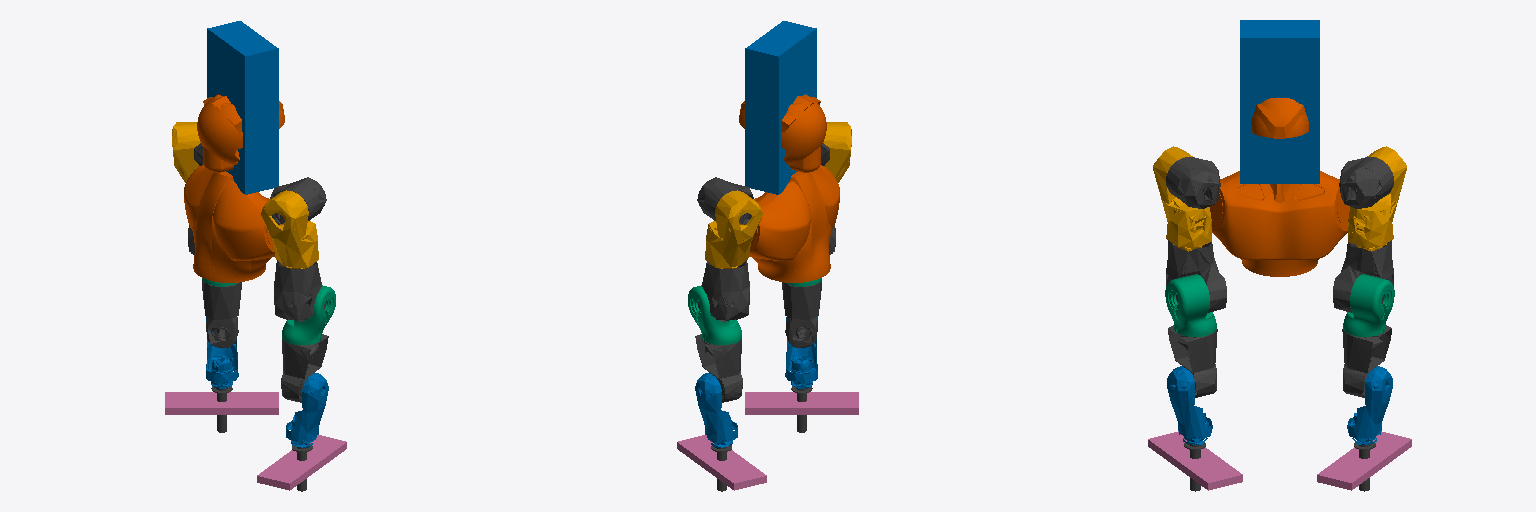
--- Render facts (derived) ---
Views: 3 orthographic renders of the robot side by side, from view 1: azimuth 30°, elevation 25°; view 2: azimuth 150°, elevation 25°; view 3: azimuth 270°, elevation 25°.
Robot: centauro — 23 links, 22 joints (14 revolute, 7 fixed, 1 floating); root link world; default pose: every joint at zero.
Links seen in each view (by area): view 1: torso_2, load, arm2_2, arm1_8, arm2_3, arm2_8, arm1_5, arm2_5, arm2_6, arm2_4, arm1_6, arm1_2 (+1 smaller); view 2: torso_2, load, arm1_2, arm2_8, arm1_3, arm1_8, arm2_5, arm1_5, arm1_6, arm1_4, arm2_6, arm2_2 (+1 smaller); view 3: torso_2, load, arm1_2, arm2_2, arm1_8, arm2_8, arm1_4, arm2_4, arm1_1, arm2_1, arm1_3, arm2_3 (+4 smaller).
Boxes of the visible links, box(x1,y1,x2,y2) form: torso_2: box(184, 94, 284, 282); load: box(207, 21, 278, 194); arm2_2: box(261, 190, 318, 268); arm1_8: box(165, 392, 278, 414); arm2_3: box(274, 260, 326, 321); arm2_8: box(257, 435, 346, 490); arm1_5: box(202, 280, 241, 347); arm2_5: box(281, 334, 328, 402); arm2_6: box(286, 373, 328, 447); arm2_4: box(282, 285, 335, 344); arm1_6: box(206, 317, 238, 388); arm1_2: box(172, 122, 200, 182); torso_2: box(739, 94, 839, 282); load: box(745, 21, 816, 194); arm1_2: box(705, 190, 762, 268); arm2_8: box(745, 392, 858, 414); arm1_3: box(697, 260, 749, 321); arm1_8: box(677, 435, 766, 490); arm2_5: box(782, 280, 821, 347); arm1_5: box(695, 334, 742, 402); arm1_6: box(695, 373, 737, 447); arm1_4: box(688, 285, 741, 344); arm2_6: box(785, 317, 817, 388); arm2_2: box(823, 122, 851, 182); torso_2: box(1210, 98, 1349, 276); load: box(1240, 20, 1319, 183); arm1_2: box(1348, 146, 1406, 251); arm2_2: box(1153, 146, 1211, 251); arm1_8: box(1317, 431, 1411, 490); arm2_8: box(1148, 431, 1242, 490); arm1_4: box(1343, 274, 1394, 336); arm2_4: box(1165, 274, 1216, 336); arm1_1: box(1339, 157, 1393, 208); arm2_1: box(1166, 157, 1220, 208); arm1_3: box(1333, 240, 1393, 312); arm2_3: box(1166, 240, 1226, 312).
Bounding box of the posed robot: 0.3478 × 0.6556 × 1.23 m (x, y, z).
Meshes: 8 distinct files referenced, 15 mesh visuals loaded (8 binary STL).

The robot description file, URDF, robot "centauro":
<?xml version="1.0" ?>
<!-- =================================================================================== -->
<!-- |    This document was autogenerated by xacro from centauro_floating_arm.urdf.xacro | -->
<!-- |    EDITING THIS FILE BY HAND IS NOT RECOMMENDED                                 | -->
<!-- =================================================================================== -->
<robot name="centauro" xmlns:xacro="http://www.ros.org/wiki/xacro">
  <!-- /constants -->
  <!-- Here all arguments from launch file are evaluated to the final xacro poropeties.
     Also all the parameter dependencies are resolved-->
  <!-- Here all arguments from launch file are evaluated to the final xacro poropeties.
     Also all the parameter dependencies are resolved-->
  <!--xacro:if value="${arm_sensors}">
  <xacro:force-torque_sensor joint="j_arm1_7" robot="centauro"/>
  <xacro:if value="${arms}">
    <xacro:force-torque_sensor joint="j_arm2_7" robot="centauro"/>
  </xacro:if>
</xacro:if-->
  <gazebo reference="j_arm1_7">
    <sensor name="left_arm_ft" type="force_torque">
      <force_torque>
        <frame>sensor</frame>
        <measure_direction>child_to_parent</measure_direction>
      </force_torque>
      <always_on>true</always_on>
      <visualize>true</visualize>
      <update_rate>1000</update_rate>
      <pose>0 0 -0.0565 0 0 0</pose>
    </sensor>
  </gazebo>
  <gazebo reference="j_arm2_7">
    <sensor name="right_arm_ft" type="force_torque">
      <force_torque>
        <frame>sensor</frame>
        <measure_direction>child_to_parent</measure_direction>
      </force_torque>
      <always_on>true</always_on>
      <visualize>true</visualize>
      <update_rate>1000</update_rate>
      <pose>0 0 -0.0565 0 0 0</pose>
    </sensor>
  </gazebo>
  <link name="left_arm_ft"/>
  <link name="right_arm_ft"/>
  <joint name="l_arm_ft_joint" type="fixed">
    <parent link="arm1_7"/>
    <child link="left_arm_ft"/>
    <origin rpy="0 0 0" xyz="0 0 -0.0565"/>
  </joint>
  <joint name="r_arm_ft_joint" type="fixed">
    <parent link="arm2_7"/>
    <child link="right_arm_ft"/>
    <origin rpy="0 0 0" xyz="0 0 -0.0565"/>
  </joint>
  <!-- ROS CONTROLLER -->
  <!--	<gazebo>
		<plugin name="gazebo_ros_control" filename="libgazebo_ros_control.so">
			<robotNamespace>/centauro</robotNamespace>
			<robotSimType>gazebo_ros_control/DefaultRobotHWSim</robotSimType>
		</plugin>

	</gazebo>-->
  <!-- /ROS CONTROLLER -->
  <!--  XBOT CONTROLLER -->
  <gazebo>
    <plugin filename="libGazeboXBotPlugin.so" name="gazebo_xbot_plugin">
      <path_to_config_file>configs/ADVR_shared/centauro/configs/config_centauro.yaml</path_to_config_file>
    </plugin>
  </gazebo>
  <!-- /XBOT CONTROLLER -->
  <gazebo reference="imu_link">
    <sensor name="imu_link" type="imu">
      <always_on>1</always_on>
      <update_rate>500</update_rate>
      <visualize>true</visualize>
      <topic>__default_topic__</topic>
      <imu>
        <!--
        <noise>
        <type>gaussian</type>
        <rate>
            <mean>0.0</mean>
            <stddev>2e-4</stddev>
            <bias_mean>0.0000075</bias_mean>
            <bias_stddev>0.0000008</bias_stddev>
        </rate>
        <accel>
            <mean>0.0</mean>
            <stddev>1.7e-2</stddev>
            <bias_mean>0.1</bias_mean>
            <bias_stddev>0.001</bias_stddev>
        </accel>
        </noise>
        -->
      </imu>
    </sensor>
  </gazebo>
  <!-- /CONTACT SENSORS -->
  <!-- FORCE-TORQUE SENSORS -->
  <!--<gazebo>
    <plugin name="ft_sensor" filename="libgazebo_ros_ft_sensor.so">
        <updateRate>100.0</updateRate>
        <topicName>ft_sensor_1</topicName>
        <jointName>foot_fixed_joint_1</jointName>
    </plugin>
</gazebo>-->
  <!-- The ft_sensor plugin -->
  <!--<gazebo>
    <plugin name="ft_sensor" filename="libgazebo_ros_ft_sensor.so">
        <updateRate>100.0</updateRate>
        <topicName>ft_sensor_2</topicName>
        <jointName>foot_fixed_joint_2</jointName>
    </plugin>
</gazebo>-->
  <!-- The ft_sensor plugin -->
  <!--<gazebo>
    <plugin name="ft_sensor" filename="libgazebo_ros_ft_sensor.so">
        <updateRate>100.0</updateRate>
        <topicName>ft_sensor_3</topicName>
        <jointName>foot_fixed_joint_3</jointName>
    </plugin>
</gazebo>-->
  <!-- The ft_sensor plugin -->
  <!--<gazebo>
    <plugin name="ft_sensor" filename="libgazebo_ros_ft_sensor.so">
        <updateRate>100.0</updateRate>
        <topicName>ft_sensor_4</topicName>
        <jointName>foot_fixed_joint_4</jointName>
    </plugin>
</gazebo>-->
  <!-- FORCE-TORQUE SENSORS -->
  <!-- /LEG SENSORS -->
  <!-- VISUALiZATION AND FRICTION -->
  <gazebo reference="base_link">
    <material>Gazebo/Red</material>
  </gazebo>
  <gazebo reference="load">
    <material>Gazebo/OrangeTransparent</material>
  </gazebo>
  <gazebo reference="pelvis">
    <material>Gazebo/OrangeTransparent</material>
    <mu1>0</mu1>
    <mu2>0</mu2>
  </gazebo>
  <gazebo reference="torso_1">
    <mu1>1</mu1>
    <mu2>1</mu2>
    <material>Gazebo/Grey</material>
  </gazebo>
  <gazebo reference="torso_2">
    <material>Gazebo/OrangeTransparent</material>
    <mu1>0</mu1>
    <mu2>0</mu2>
  </gazebo>
  <gazebo reference="hip1_1">
    <material>Gazebo/Lane_1</material>
    <mu1>0</mu1>
    <mu2>0</mu2>
  </gazebo>
  <gazebo reference="hip1_2">
    <material>Gazebo/Lane_1 </material>
    <mu1>0</mu1>
    <mu2>0</mu2>
  </gazebo>
  <gazebo reference="hip1_3">
    <material>Gazebo/Lane_1</material>
    <mu1>0</mu1>
    <mu2>0</mu2>
  </gazebo>
  <gazebo reference="hip1_4">
    <material>Gazebo/Lane_1</material>
    <mu1>0</mu1>
    <mu2>0</mu2>
  </gazebo>
  <gazebo reference="hip2_1">
    <material>Gazebo/OrangeTransparent </material>
    <mu1>0</mu1>
    <mu2>0</mu2>
  </gazebo>
  <gazebo reference="hip2_2">
    <material>Gazebo/OrangeTransparent</material>
    <mu1>0</mu1>
    <mu2>0</mu2>
  </gazebo>
  <gazebo reference="hip2_3">
    <material>Gazebo/OrangeTransparent </material>
    <mu1>0</mu1>
    <mu2>0</mu2>
  </gazebo>
  <gazebo reference="hip2_4">
    <material>Gazebo/OrangeTransparent </material>
    <mu1>0</mu1>
    <mu2>0</mu2>
  </gazebo>
  <gazebo reference="knee_1">
    <material>Gazebo/Lane_1 </material>
    <mu1>0</mu1>
    <mu2>0</mu2>
  </gazebo>
  <gazebo reference="knee_2">
    <material>Gazebo/Lane_1 </material>
    <mu1>0</mu1>
    <mu2>0</mu2>
  </gazebo>
  <gazebo reference="knee_3">
    <material>Gazebo/Lane_1 </material>
    <mu1>0</mu1>
    <mu2>0</mu2>
  </gazebo>
  <gazebo reference="knee_4">
    <material>Gazebo/Lane_1 </material>
    <mu1>0</mu1>
    <mu2>0</mu2>
  </gazebo>
  <gazebo reference="ankle1_1">
    <material>Gazebo/OrangeTransparent</material>
    <mu1>0</mu1>
    <mu2>0</mu2>
  </gazebo>
  <gazebo reference="ankle1_2">
    <material>Gazebo/OrangeTransparent  </material>
    <mu1>0</mu1>
    <mu2>0</mu2>
  </gazebo>
  <gazebo reference="ankle1_3">
    <material>Gazebo/OrangeTransparent </material>
    <mu1>0</mu1>
    <mu2>0</mu2>
  </gazebo>
  <gazebo reference="ankle1_4">
    <material>Gazebo/OrangeTransparent  </material>
    <mu1>0</mu1>
    <mu2>0</mu2>
  </gazebo>
  <gazebo reference="ankle2_1">
    <material> Gazebo/Lane_1 </material>
    <mu1>0</mu1>
    <mu2>0</mu2>
  </gazebo>
  <gazebo reference="ankle2_2">
    <material>Gazebo/Lane_1 </material>
    <mu1>0</mu1>
    <mu2>0</mu2>
  </gazebo>
  <gazebo reference="ankle2_3">
    <material>Gazebo/Lane_1</material>
    <mu1>0</mu1>
    <mu2>0</mu2>
  </gazebo>
  <gazebo reference="ankle2_4">
    <material>Gazebo/Lane_1</material>
    <mu1>0</mu1>
    <mu2>0</mu2>
  </gazebo>
  <gazebo reference="wheel_1">
    <material>Gazebo/Residential </material>
    <collision>
      <surface>
        <friction>
          <!--                                        <torsional>
                                                <coefficient> 0.5 </coefficient>
                                                <use_patch_radius>true</use_patch_radius>
                                                <patch_radius>0.2</patch_radius>
                                        </torsional>-->
          <ode>
            <mu>0.5</mu>
            <mu2>0.5</mu2>
          </ode>
          <bullet>
            <friction>0.5</friction>
            <friction2>0.5</friction2>
          </bullet>
        </friction>
        <contact>
          <ode>
            <!--                                               <soft_cfm>0.007</soft_cfm>
                                        <soft_erp>0.25</soft_erp>-->
            <kp>2100000</kp>
            <kd>1</kd>
            <!--                                                <max_vel>100</max_vel>-->
          </ode>
          <bullet>
            <soft_cfm>0.007</soft_cfm>
            <soft_erp>0.25</soft_erp>
            <kp>1000000</kp>
            <kd>5</kd>
            <split_impulse>0.01</split_impulse>
          </bullet>
        </contact>
      </surface>
    </collision>
  </gazebo>
  <gazebo reference="wheel_2">
    <material>Gazebo/Residential</material>
    <collision>
      <surface>
        <friction>
          <!--                                        <torsional>
                                                <coefficient> 0.5 </coefficient>
                                                <use_patch_radius>true</use_patch_radius>
                                                <patch_radius>0.2</patch_radius>
                                        </torsional>-->
          <ode>
            <mu>0.5</mu>
            <mu2>0.5</mu2>
          </ode>
          <bullet>
            <friction>0.5</friction>
            <friction2>0.5</friction2>
          </bullet>
        </friction>
        <contact>
          <ode>
            <!--                                               <soft_cfm>0.007</soft_cfm>
                                        <soft_erp>0.25</soft_erp>-->
            <kp>2100000</kp>
            <kd>1</kd>
            <!--                                                <max_vel>100</max_vel>-->
          </ode>
          <bullet>
            <soft_cfm>0.007</soft_cfm>
            <soft_erp>0.25</soft_erp>
            <kp>1000000</kp>
            <kd>5</kd>
            <split_impulse>0.01</split_impulse>
          </bullet>
        </contact>
      </surface>
    </collision>
  </gazebo>
  <gazebo reference="wheel_3">
    <material>Gazebo/Residential </material>
    <collision>
      <surface>
        <friction>
          <!--                                        <torsional>
                                                <coefficient> 0.5 </coefficient>
                                                <use_patch_radius>true</use_patch_radius>
                                                <patch_radius>0.2</patch_radius>
                                        </torsional>-->
          <ode>
            <mu>0.5</mu>
            <mu2>0.5</mu2>
          </ode>
          <bullet>
            <friction>0.5</friction>
            <friction2>0.5</friction2>
          </bullet>
        </friction>
        <contact>
          <ode>
            <!--                                               <soft_cfm>0.007</soft_cfm>
                                        <soft_erp>0.25</soft_erp>-->
            <kp>2100000</kp>
            <kd>1</kd>
            <!--                                                <max_vel>100</max_vel>-->
          </ode>
          <bullet>
            <soft_cfm>0.007</soft_cfm>
            <soft_erp>0.25</soft_erp>
            <kp>1000000</kp>
            <kd>5</kd>
            <split_impulse>0.01</split_impulse>
          </bullet>
        </contact>
      </surface>
    </collision>
  </gazebo>
  <gazebo reference="wheel_4">
    <material>Gazebo/Residential</material>
    <collision>
      <surface>
        <friction>
          <!--                                        <torsional>
                                                <coefficient> 0.5 </coefficient>
                                                <use_patch_radius>true</use_patch_radius>
                                                <patch_radius>0.2</patch_radius>
                                        </torsional>-->
          <ode>
            <mu>0.5</mu>
            <mu2>0.5</mu2>
          </ode>
          <bullet>
            <friction>0.5</friction>
            <friction2>0.5</friction2>
          </bullet>
        </friction>
        <contact>
          <ode>
            <!--                                               <soft_cfm>0.007</soft_cfm>
                                                <soft_erp>0.25</soft_erp>-->
            <kp>2100000</kp>
            <kd>1</kd>
            <!--                                                <max_vel>100</max_vel>-->
          </ode>
          <bullet>
            <soft_cfm>0.007</soft_cfm>
            <soft_erp>0.25</soft_erp>
            <kp>1000000</kp>
            <kd>5</kd>
            <split_impulse>0.01</split_impulse>
          </bullet>
        </contact>
      </surface>
    </collision>
  </gazebo>
  <gazebo reference="arm1_1">
    <material>Gazebo/Lane_1 </material>
    <mu1>0</mu1>
    <mu2>0</mu2>
  </gazebo>
  <gazebo reference="arm2_1">
    <material>Gazebo/Lane_1 </material>
    <mu1>0</mu1>
    <mu2>0</mu2>
  </gazebo>
  <gazebo reference="arm1_2">
    <material>Gazebo/OrangeTransparent </material>
    <mu1>0</mu1>
    <mu2>0</mu2>
  </gazebo>
  <gazebo reference="arm2_2">
    <material>Gazebo/OrangeTransparent</material>
    <mu1>0</mu1>
    <mu2>0</mu2>
  </gazebo>
  <gazebo reference="arm1_3">
    <material>Gazebo/Lane_1 </material>
    <mu1>0</mu1>
    <mu2>0</mu2>
  </gazebo>
  <gazebo reference="arm2_3">
    <material>Gazebo/Lane_1 </material>
    <mu1>0</mu1>
    <mu2>0</mu2>
  </gazebo>
  <gazebo reference="arm1_4">
    <material>Gazebo/OrangeTransparent </material>
    <mu1>0</mu1>
    <mu2>0</mu2>
  </gazebo>
  <gazebo reference="arm2_4">
    <material>Gazebo/OrangeTransparent </material>
    <mu1>0</mu1>
    <mu2>0</mu2>
  </gazebo>
  <gazebo reference="arm1_5">
    <material>Gazebo/Lane_1 </material>
    <mu1>0</mu1>
    <mu2>0</mu2>
  </gazebo>
  <gazebo reference="arm2_5">
    <material>Gazebo/Lane_1 </material>
    <mu1>0</mu1>
    <mu2>0</mu2>
  </gazebo>
  <gazebo reference="arm1_6">
    <material>Gazebo/OrangeTransparent </material>
    <mu1>0</mu1>
    <mu2>0</mu2>
  </gazebo>
  <gazebo reference="arm2_6">
    <material>Gazebo/OrangeTransparent </material>
    <mu1>0</mu1>
    <mu2>0</mu2>
  </gazebo>
  <gazebo reference="arm1_7">
    <material>Gazebo/Lane_1 </material>
    <mu1>0</mu1>
    <mu2>0</mu2>
  </gazebo>
  <gazebo reference="arm2_7">
    <material>Gazebo/Lane_1 </material>
    <mu1>0</mu1>
    <mu2>0</mu2>
  </gazebo>
  <gazebo reference="arm1_8">
    <material>Gazebo/OrangeTransparent </material>
    <kp>1000000.0</kp>
    <kd>100.0</kd>
    <mu1>1.0</mu1>
    <mu2>1.0</mu2>
    <fdir1>1 0 0</fdir1>
    <maxVel>1.0</maxVel>
    <minDepth>0.0</minDepth>
  </gazebo>
  <gazebo reference="arm2_8">
    <material>Gazebo/OrangeTransparent </material>
    <kp>1000000.0</kp>
    <kd>100.0</kd>
    <mu1>1.0</mu1>
    <mu2>1.0</mu2>
    <fdir1>1 0 0</fdir1>
    <maxVel>1.0</maxVel>
    <minDepth>0.0</minDepth>
  </gazebo>
  <!--     JOINTS -->
  <gazebo reference="torso_yaw">
    <dynamics damping="0.0" friction="0"/>
    <provideFeedback>1</provideFeedback>
    <physics>
      <ode>
        <implicit_spring_damper>1</implicit_spring_damper>
      </ode>
    </physics>
  </gazebo>
  <gazebo reference="j_arm2_1">
    <dynamics damping="0.0" friction="0"/>
    <provideFeedback>1</provideFeedback>
    <physics>
      <ode>
        <implicit_spring_damper>1</implicit_spring_damper>
      </ode>
    </physics>
  </gazebo>
  <gazebo reference="j_arm1_1">
    <dynamics damping="0.0" friction="0"/>
    <provideFeedback>1</provideFeedback>
    <physics>
      <ode>
        <implicit_spring_damper>1</implicit_spring_damper>
      </ode>
    </physics>
  </gazebo>
  <gazebo reference="j_arm2_1">
    <dynamics damping="0.0" friction="0"/>
    <provideFeedback>1</provideFeedback>
    <physics>
      <ode>
        <implicit_spring_damper>1</implicit_spring_damper>
      </ode>
    </physics>
  </gazebo>
  <gazebo reference="j_arm1_2">
    <dynamics damping="0.0" friction="0"/>
    <provideFeedback>1</provideFeedback>
    <physics>
      <ode>
        <implicit_spring_damper>1</implicit_spring_damper>
      </ode>
    </physics>
  </gazebo>
  <gazebo reference="j_arm2_2">
    <dynamics damping="0.0" friction="0"/>
    <provideFeedback>1</provideFeedback>
    <physics>
      <ode>
        <implicit_spring_damper>1</implicit_spring_damper>
      </ode>
    </physics>
  </gazebo>
  <gazebo reference="j_arm1_3">
    <dynamics damping="0.0" friction="0"/>
    <provideFeedback>1</provideFeedback>
    <physics>
      <ode>
        <implicit_spring_damper>1</implicit_spring_damper>
      </ode>
    </physics>
  </gazebo>
  <gazebo reference="j_arm2_3">
    <dynamics damping="0.0" friction="0"/>
    <provideFeedback>1</provideFeedback>
    <implicitSpringDamper>1</implicitSpringDamper>
  </gazebo>
  <gazebo reference="j_arm1_4">
    <dynamics damping="0.0" friction="0"/>
    <provideFeedback>1</provideFeedback>
    <physics>
      <ode>
        <implicit_spring_damper>1</implicit_spring_damper>
      </ode>
    </physics>
  </gazebo>
  <gazebo reference="j_arm2_4">
    <dynamics damping="0.0" friction="0"/>
    <provideFeedback>1</provideFeedback>
    <physics>
      <ode>
        <implicit_spring_damper>1</implicit_spring_damper>
      </ode>
    </physics>
  </gazebo>
  <gazebo reference="j_arm1_5">
    <dynamics damping="0.0" friction="0"/>
    <provideFeedback>1</provideFeedback>
    <physics>
      <ode>
        <implicit_spring_damper>1</implicit_spring_damper>
      </ode>
    </physics>
  </gazebo>
  <gazebo reference="j_arm2_5">
    <dynamics damping="0.0" friction="0"/>
    <provideFeedback>1</provideFeedback>
    <physics>
      <ode>
        <implicit_spring_damper>1</implicit_spring_damper>
      </ode>
    </physics>
  </gazebo>
  <gazebo reference="j_arm1_6">
    <dynamics damping="0.0" friction="0"/>
    <provideFeedback>1</provideFeedback>
    <physics>
      <ode>
        <implicit_spring_damper>1</implicit_spring_damper>
      </ode>
    </physics>
  </gazebo>
  <gazebo reference="j_arm2_6">
    <dynamics damping="0.0" friction="0"/>
    <provideFeedback>1</provideFeedback>
    <physics>
      <ode>
        <implicit_spring_damper>1</implicit_spring_damper>
      </ode>
    </physics>
  </gazebo>
  <gazebo reference="j_arm1_7">
    <dynamics damping="0.0" friction="0"/>
    <provideFeedback>1</provideFeedback>
    <physics>
      <ode>
        <implicit_spring_damper>1</implicit_spring_damper>
      </ode>
    </physics>
  </gazebo>
  <gazebo reference="j_arm2_7">
    <dynamics damping="0.0" friction="0"/>
    <provideFeedback>1</provideFeedback>
    <physics>
      <ode>
        <implicit_spring_damper>1</implicit_spring_damper>
      </ode>
    </physics>
  </gazebo>
  <gazebo reference="hip_yaw_1">
    <dynamics damping="0.0" friction="0"/>
    <provideFeedback>1</provideFeedback>
    <physics>
      <ode>
        <implicit_spring_damper>1</implicit_spring_damper>
      </ode>
    </physics>
  </gazebo>
  <gazebo reference="hip_yaw_2">
    <dynamics damping="0.0" friction="0"/>
    <provideFeedback>1</provideFeedback>
    <physics>
      <ode>
        <implicit_spring_damper>1</implicit_spring_damper>
      </ode>
    </physics>
  </gazebo>
  <gazebo reference="hip_yaw_3">
    <dynamics damping="0.0" friction="0"/>
    <provideFeedback>1</provideFeedback>
    <physics>
      <ode>
        <implicit_spring_damper>1</implicit_spring_damper>
      </ode>
    </physics>
  </gazebo>
  <gazebo reference="hip_yaw_4">
    <dynamics damping="0.0" friction="0"/>
    <provideFeedback>1</provideFeedback>
    <physics>
      <ode>
        <implicit_spring_damper>1</implicit_spring_damper>
      </ode>
    </physics>
  </gazebo>
  <gazebo reference="hip_pitch_1">
    <dynamics damping="0.0" friction="0"/>
    <provideFeedback>1</provideFeedback>
    <physics>
      <ode>
        <implicit_spring_damper>1</implicit_spring_damper>
      </ode>
    </physics>
  </gazebo>
  <gazebo reference="hip_pitch_2">
    <dynamics damping="0.0" friction="0"/>
    <provideFeedback>1</provideFeedback>
    <physics>
      <ode>
        <implicit_spring_damper>1</implicit_spring_damper>
      </ode>
    </physics>
  </gazebo>
  <gazebo reference="hip_pitch_3">
    <dynamics damping="0.0" friction="0"/>
    <provideFeedback>1</provideFeedback>
    <physics>
      <ode>
        <implicit_spring_damper>1</implicit_spring_damper>
      </ode>
    </physics>
  </gazebo>
  <gazebo reference="hip_pitch_4">
    <dynamics damping="0.0" friction="0"/>
    <provideFeedback>1</provideFeedback>
    <physics>
      <ode>
        <implicit_spring_damper>1</implicit_spring_damper>
      </ode>
    </physics>
  </gazebo>
  <gazebo reference="knee_pitch_1">
    <dynamics damping="0.0" friction="0"/>
    <provideFeedback>1</provideFeedback>
    <physics>
      <ode>
        <implicit_spring_damper>1</implicit_spring_damper>
      </ode>
    </physics>
  </gazebo>
  <gazebo reference="knee_pitch_2">
    <dynamics damping="0.0" friction="0"/>
    <provideFeedback>1</provideFeedback>
    <physics>
      <ode>
        <implicit_spring_damper>1</implicit_spring_damper>
      </ode>
    </physics>
  </gazebo>
  <gazebo reference="knee_pitch_3">
    <dynamics damping="0.0" friction="0"/>
    <provideFeedback>1</provideFeedback>
    <physics>
      <ode>
        <implicit_spring_damper>1</implicit_spring_damper>
      </ode>
    </physics>
  </gazebo>
  <gazebo reference="knee_pitch_4">
    <dynamics damping="0.0" friction="0"/>
    <provideFeedback>1</provideFeedback>
    <physics>
      <ode>
        <implicit_spring_damper>1</implicit_spring_damper>
      </ode>
    </physics>
  </gazebo>
  <gazebo reference="wheel_hip_1">
    <material>Gazebo/Black</material>
  </gazebo>
  <gazebo reference="wheel_hip_2">
    <material>Gazebo/Black</material>
  </gazebo>
  <gazebo reference="wheel_hip_3">
    <material>Gazebo/Black</material>
  </gazebo>
  <gazebo reference="wheel_hip_4">
    <material>Gazebo/Black</material>
  </gazebo>
  <gazebo reference="wheel_hip_reference_1">
    <material>Gazebo/Blue</material>
  </gazebo>
  <gazebo reference="wheel_hip_reference_2">
    <material>Gazebo/Blue</material>
  </gazebo>
  <gazebo reference="wheel_hip_reference_3">
    <material>Gazebo/Blue</material>
  </gazebo>
  <gazebo reference="wheel_hip_reference_4">
    <material>Gazebo/Blue</material>
  </gazebo>
  <gazebo reference="wheel_knee_1">
    <material>Gazebo/Black</material>
  </gazebo>
  <gazebo reference="wheel_knee_2">
    <material>Gazebo/Black</material>
  </gazebo>
  <gazebo reference="wheel_knee_3">
    <material>Gazebo/Black</material>
  </gazebo>
  <gazebo reference="wheel_knee_4">
    <material>Gazebo/Black</material>
  </gazebo>
  <gazebo reference="wheel_knee_reference_1">
    <material>Gazebo/Blue</material>
  </gazebo>
  <gazebo reference="wheel_knee_reference_2">
    <material>Gazebo/Blue</material>
  </gazebo>
  <gazebo reference="wheel_knee_reference_3">
    <material>Gazebo/Blue</material>
  </gazebo>
  <gazebo reference="wheel_knee_reference_4">
    <material>Gazebo/Blue</material>
  </gazebo>
  <!-- /VISUALiZATION AND FRICTION -->
  <material name="grey">
    <color rgba="0.5 0.5 0.5 1"/>
  </material>
  <material name="dark_grey">
    <color rgba="0.3 0.3 0.3 1"/>
  </material>
  <material name="blue">
    <color rgba="0.0 0.2 0.3 1"/>
  </material>
  <material name="red">
    <color rgba="0.5 0.1 0.2 1"/>
  </material>
  <material name="black">
    <color rgba="0.0 0.0 0.0 1"/>
  </material>
  <!-- Here all arguments from launch file are evaluated to the final xacro poropeties.
     Also all the parameter dependencies are resolved-->
  <!-- load proper collision model -->
  <!-- load proper collision model -->
  <!-- Here all arguments from launch file are evaluated to the final xacro poropeties.
     Also all the parameter dependencies are resolved-->
  <!-- load proper collision model -->
  <!-- load proper collision model -->
  <!-- /macro arms -->
  <!-- /other files -->
  <!-- reference -->
  <link name="world"/>
  <link name="base_link"/>
  <link name="load">
    <visual>
      <origin rpy="0 0 0" xyz="0.0 0.0 0.0"/>
      <geometry>
        <box size="0.1 0.2 0.4"/>
      </geometry>
    </visual>
    <collision>
      <origin rpy="0 0 0" xyz="0.0 0.0 0.0"/>
      <geometry>
        <box size="0.1 0.2 0.4"/>
      </geometry>
    </collision>
    <inertial>
      <origin rpy="0 0 0" xyz="0.0 0.0 0.0"/>
      <mass value="20"/>
      <inertia ixx="0.2" ixy="0.0" ixz="0.0" iyy="0.2" iyz="0.0" izz="0.1"/>
    </inertial>
  </link>
  <joint name="floating_base" type="floating">
    <origin rpy="0 0 0" xyz="0.0 0.0 0.6"/>
    <parent link="world"/>
    <child link="base_link"/>
  </joint>
  <joint name="load_joint" type="fixed">
    <origin rpy="0 0 0" xyz="0.04 0.0 0.4"/>
    <parent link="base_link"/>
    <child link="load"/>
  </joint>
  <!-- torso links -->
  <link name="torso_2">
    <inertial>
      <origin xyz="0.0047281261 0.00038307386 0.14972892"/>
      <mass value="4.5494226"/>
      <!-- mass  7: torso_1 (2) + torso_2 (5), head un_modelled -->
      <inertia ixx="0.063643392" ixy="8.939e-05" ixz="-0.00086873" iyy="0.02680235" iyz="-4.657e-05" izz="0.04743015"/>
    </inertial>
    <visual>
      <origin rpy="0.0 0.0 0.0" xyz="0.0 0 0.0"/>
      <geometry>
        <mesh filename="package://centauro/centauro_urdf/meshes/link1.stl" scale="0.001 0.001 0.001"/>
      </geometry>
    </visual>
    <collision>
      <origin rpy="0.0 0.0 0.0" xyz="0.0 0 0.0"/>
      <geometry>
        <mesh filename="package://centauro/centauro_urdf/meshes/convex_hull/link1.stl" scale="0.001 0.001 0.001"/>
      </geometry>
    </collision>
  </link>
  <link name="imu_link">
    <inertial>
      <mass value="0.0"/>
      <!-- mass  7: torso_1 (2) + torso_2 (5), head un_modelled -->
      <inertia ixx="0.0" ixy="0.0" ixz="0.0" iyy="0.0" iyz="0.0" izz="0.0"/>
    </inertial>
  </link>
  <!-- /torso links -->
  <!-- torso joints -->
  <joint name="base_joint" type="fixed">
    <parent link="base_link"/>
    <child link="torso_2"/>
    <origin rpy="0 0 0" xyz="0 0 0"/>
  </joint>
  <joint name="imu_joint" type="fixed">
    <parent link="torso_2"/>
    <child link="imu_link"/>
    <origin xyz="-0.0704 0.0 -0.0416"/>
  </joint>
  <!-- /torso -->
  <!-- LINKS -->
  <!-- shoulder yaw-roll-->
  <link name="arm1_1">
    <inertial>
      <origin xyz="-0.0031005886 0.040324584 0.007451937"/>
      <mass value="1.5583338"/>
      <inertia ixx="0.0032318636" ixy="4.24587e-05" ixz="4.91626e-05" iyy="0.00275718" iyz="-0.0002387056" izz="0.004275047"/>
    </inertial>
    <visual>
      <origin rpy="0.0 0.0 0.0" xyz="0.0 0.0 0.0"/>
      <geometry>
        <mesh filename="package://centauro/centauro_urdf/meshes/link2.stl" scale="0.001 -0.001 0.001"/>
      </geometry>
      <material name="dark_grey"/>
    </visual>
    <collision>
      <origin rpy="0.0 0.0 0.0" xyz="0.0 0.0 0.0"/>
      <geometry>
        <mesh filename="package://centauro/centauro_urdf/meshes/convex_hull/link2.stl" scale="0.001 -0.001 0.001"/>
      </geometry>
    </collision>
  </link>
  <!-- shoulder yaw-roll-->
  <!-- shoulder roll-pitch-->
  <link name="arm1_2">
    <inertial>
      <origin xyz="0.05105435 0.00011109 -0.07643596"/>
      <mass value="1.515061"/>
      <inertia ixx="0.01029558" ixy="2.846e-05" ixz="0.0036567" iyy="0.01178018" iyz="2.088e-05" izz="0.00386123"/>
    </inertial>
    <visual>
      <origin rpy="0.0 0.0 0.0" xyz="0.0 0.0 0.0"/>
      <geometry>
        <mesh filename="package://centauro/centauro_urdf/meshes/link3.stl" scale="0.001 -0.001 0.001"/>
      </geometry>
    </visual>
    <collision>
      <origin rpy="0.0 0.0 0.0" xyz="0.0 0.0 0.0"/>
      <geometry>
        <mesh filename="package://centauro/centauro_urdf/meshes/convex_hull/link3.stl" scale="0.001 -0.001 0.001"/>
      </geometry>
    </collision>
  </link>
  <!-- shoulder roll-pitch-->
  <!-- shoulder-elbow -->
  <link name="arm1_3">
    <inertial>
      <origin xyz="0.01207624 0.00322013 -0.03427312"/>
      <mass value="1.5088101"/>
      <inertia ixx="0.00469819" ixy="-0.00026547" ixz="0.00077706" iyy="0.00501755" iyz="0.00029679" izz="0.00310954"/>
    </inertial>
    <visual>
      <origin rpy="0.0 0.0 0.0" xyz="0.0 0.0 0.0"/>
      <geometry>
        <mesh filename="package://centauro/centauro_urdf/meshes/link4.stl" scale="0.001 -0.001 0.001"/>
      </geometry>
      <material name="dark_grey"/>
    </visual>
    <collision>
      <origin rpy="0.0 0.0 0.0" xyz="0.0 0.0 0.0"/>
      <geometry>
        <mesh filename="package://centauro/centauro_urdf/meshes/convex_hull/link4.stl" scale="0.001 -0.001 0.001"/>
      </geometry>
    </collision>
  </link>
  <!-- /shoulder-elbow -->
  <!-- elbow yaw-pitch -->
  <link name="arm1_4">
    <inertial>
      <origin xyz="0.010147552 -0.029928537 -0.032528288"/>
      <mass value="0.96297329"/>
      <inertia ixx="0.0026493567" ixy="5.1632e-06" ixz="0.0001292309" iyy="0.0023470955" iyz="-0.0007895755" izz="0.0012213063"/>
    </inertial>
    <visual>
      <origin rpy="0.0 0.0 0.0" xyz="0.0 0.0 0.0"/>
      <geometry>
        <mesh filename="package://centauro/centauro_urdf/meshes/link5.stl" scale="0.001 -0.001 0.001"/>
      </geometry>
    </visual>
    <collision>
      <origin rpy="0.0 0.0 0.0" xyz="0.0 0.0 0.0"/>
      <geometry>
        <mesh filename="package://centauro/centauro_urdf/meshes/convex_hull/link5.stl" scale="0.001 -0.001 0.001"/>
      </geometry>
    </collision>
  </link>
  <!-- /elbow yaw-pitch -->
  <!-- elbow-wrist -->
  <link name="arm1_5">
    <inertial>
      <origin xyz="-0.0001574443 0.0041320907 -0.10756614"/>
      <mass value="1.4703698"/>
      <inertia ixx="0.0064160453" ixy="1.96382e-05" ixz="2.49912e-05" iyy="0.0062016367" iyz="-0.0001987903" izz="0.0017091658"/>
    </inertial>
    <visual>
      <origin rpy="0.0 0.0 0.0" xyz="0.0 0.0 0.0"/>
      <geometry>
        <mesh filename="package://centauro/centauro_urdf/meshes/link6.stl" scale="0.001 -0.001 0.001"/>
      </geometry>
      <material name="dark_grey"/>
    </visual>
    <collision>
      <origin rpy="0.0 0.0 0.0" xyz="0.0 0.0 0.0"/>
      <geometry>
        <mesh filename="package://centauro/centauro_urdf/meshes/convex_hull/link6.stl" scale="0.001 -0.001 0.001"/>
      </geometry>
    </collision>
  </link>
  <!-- /elbow-wrist -->
  <!-- wrist yaw-pitch -->
  <link name="arm1_6">
    <inertial>
      <origin xyz="3.23645e-05 -0.035947237 -0.080878061"/>
      <mass value="0.94693868"/>
      <inertia ixx="0.0036896582" ixy="2.63667e-05" ixz="1.4005e-06" iyy="0.0034146283" iyz="-0.0008268103" izz="0.0010790183"/>
    </inertial>
    <visual>
      <origin rpy="0.0 0.0 0.0" xyz="0.0 0.0 0.0"/>
      <geometry>
        <mesh filename="package://centauro/centauro_urdf/meshes/link7.stl" scale="0.001 -0.001 0.001"/>
      </geometry>
    </visual>
    <collision>
      <origin rpy="0.0 0.0 0.0" xyz="0.0 0.0 0.0"/>
      <geometry>
        <mesh filename="package://centauro/centauro_urdf/meshes/convex_hull/link7.stl" scale="0.001 -0.001 0.001"/>
      </geometry>
    </collision>
  </link>
  <!-- /wrist yaw-pitch -->
  <link name="arm1_7">
    <inertial>
      <origin xyz="2.46596e-05 -0.0001467705 -0.0052993013"/>
      <mass value="0.55981036"/>
      <inertia ixx="0.0004360175" ixy="1.397e-07" ixz="-1.382e-07" iyy="0.0004299166" iyz="-1.4752e-06" izz="0.0004522224"/>
    </inertial>
    <visual>
      <origin rpy="0.0 0.0 0.0" xyz="0.0 0.0 0.0"/>
      <geometry>
        <mesh filename="package://centauro/centauro_urdf/meshes/link8.stl" scale="0.001 -0.001 0.001"/>
      </geometry>
      <material name="dark_grey"/>
    </visual>
    <collision>
      <origin rpy="0.0 0.0 0.0" xyz="0.0 0.0 0.0"/>
      <geometry>
        <mesh filename="package://centauro/centauro_urdf/meshes/convex_hull/link8.stl" scale="0.001 -0.001 0.001"/>
      </geometry>
    </collision>
  </link>
  <!-- /LINKS -->
  <!-- JOINTS -->
  <!-- shoulder yaw -->
  <joint name="j_arm1_1" type="revolute">
    <parent link="torso_2"/>
    <child link="arm1_1"/>
    <origin rpy="0.0 0.0 -0.523602668986" xyz="0.04576 0.169137 0.190626"/>
    <axis xyz="0 0.984807753012 0.173648177667"/>
    <!--          <limit lower="-3.403" upper="1.658" effort="147" velocity="5.7"/> -->
    <limit effort="147" lower="-3.0" upper="3.0" velocity="5.7"/>
  </joint>
  <!-- /shoulder yaw -->
  <!-- shoulder roll -->
  <joint name="j_arm1_2" type="revolute">
    <parent link="arm1_1"/>
    <child link="arm1_2"/>
    <origin xyz="-0.09115 0.06106 0.010766"/>
    <axis xyz="-1 0 0"/>
    <!--          <limit lower="-3.49" upper="0" effort="147" velocity="5.7"/> -->
    <limit effort="147" lower="-3.0" upper="3.0" velocity="5.7"/>
  </joint>
  <!-- /shoulder roll -->
  <!-- shoulder pitch-->
  <joint name="j_arm1_3" type="revolute">
    <parent link="arm1_2"/>
    <child link="arm1_3"/>
    <origin xyz="0.09115 0.0 -0.21915"/>
    <axis xyz="0 0 -1"/>
    <!--       <limit lower="-2.618" upper="2.618" effort="147" velocity="8.2"/> -->
    <limit effort="147" lower="-3.0" upper="3.0" velocity="5.7"/>
  </joint>
  <!-- /shoulder pitch -->
  <!-- elbow yaw -->
  <joint name="j_arm1_4" type="revolute">
    <parent link="arm1_3"/>
    <child link="arm1_4"/>
    <origin xyz="0.04 0.05615 -0.074"/>
    <axis xyz="0 1 0"/>
    <!--          <limit lower="-2.530" upper="0.349" effort="147" velocity="8.2"/> -->
    <limit effort="147" lower="-3.0" upper="3.0" velocity="5.7"/>
  </joint>
  <!-- /elbow yaw -->
  <!-- elbow pitch-->
  <joint name="j_arm1_5" type="revolute">
    <parent link="arm1_4"/>
    <child link="arm1_5"/>
    <origin xyz="-0.015 -0.05615 -0.061"/>
    <axis xyz="0 0 -1"/>
    <!--       <limit lower="-2.618" upper="2.618" effort="55" velocity="11.6"/> -->
    <limit effort="147" lower="-3.0" upper="3.0" velocity="5.7"/>
  </joint>
  <!-- /elbow pitch-->
  <!-- wrist yaw-->
  <joint name="j_arm1_6" type="revolute">
    <parent link="arm1_5"/>
    <child link="arm1_6"/>
    <origin xyz="0.0 0.049 -0.18"/>
    <axis xyz="0 1 0"/>
    <!--       <limit lower="-1.570" upper="1.570" effort="55" velocity="11.6"/> -->
    <limit effort="147" lower="-3.0" upper="3.0" velocity="5.7"/>
  </joint>
  <!-- /wrist yaw-->
  <!-- wrist pitch-->
  <joint name="j_arm1_7" type="revolute">
    <parent link="arm1_6"/>
    <child link="arm1_7"/>
    <origin xyz="0.0 -0.049 -0.169"/>
    <axis xyz="0 0 -1"/>
    <!--       <limit lower="-2.618" upper="2.618" effort="27" velocity="20.3"/> -->
    <limit effort="147" lower="-3.0" upper="3.0" velocity="5.7"/>
  </joint>
  <!-- wrist pitch-->
  <!-- force-troque sensor -->
  <transmission name="t_j_arm1_1">
    <type> transmission_interface/SimpleTransmission</type>
    <joint name="j_arm1_1">
      <hardwareInterface>EffortJointInterface</hardwareInterface>
    </joint>
    <actuator name="motor_j_arm1_1">
      <hardwareInterface>EffortJointInterface</hardwareInterface>
      <machanicalReduction>1</machanicalReduction>
    </actuator>
    <robotNamespace>/centauro</robotNamespace>
  </transmission>
  <transmission name="t_j_arm1_2">
    <type> transmission_interface/SimpleTransmission</type>
    <joint name="j_arm1_2">
      <hardwareInterface>EffortJointInterface</hardwareInterface>
    </joint>
    <actuator name="motor_j_arm1_2">
      <hardwareInterface>EffortJointInterface</hardwareInterface>
      <machanicalReduction>1</machanicalReduction>
    </actuator>
    <robotNamespace>/centauro</robotNamespace>
  </transmission>
  <transmission name="t_j_arm1_3">
    <type> transmission_interface/SimpleTransmission</type>
    <joint name="j_arm1_3">
      <hardwareInterface>EffortJointInterface</hardwareInterface>
    </joint>
    <actuator name="motor_j_arm1_3">
      <hardwareInterface>EffortJointInterface</hardwareInterface>
      <machanicalReduction>1</machanicalReduction>
    </actuator>
    <robotNamespace>/centauro</robotNamespace>
  </transmission>
  <transmission name="t_j_arm1_4">
    <type> transmission_interface/SimpleTransmission</type>
    <joint name="j_arm1_4">
      <hardwareInterface>EffortJointInterface</hardwareInterface>
    </joint>
    <actuator name="motor_j_arm1_4">
      <hardwareInterface>EffortJointInterface</hardwareInterface>
      <machanicalReduction>1</machanicalReduction>
    </actuator>
    <robotNamespace>/centauro</robotNamespace>
  </transmission>
  <transmission name="t_j_arm1_5">
    <type> transmission_interface/SimpleTransmission</type>
    <joint name="j_arm1_5">
      <hardwareInterface>EffortJointInterface</hardwareInterface>
    </joint>
    <actuator name="motor_j_arm1_5">
      <hardwareInterface>EffortJointInterface</hardwareInterface>
      <machanicalReduction>1</machanicalReduction>
    </actuator>
    <robotNamespace>/centauro</robotNamespace>
  </transmission>
  <transmission name="t_j_arm1_6">
    <type> transmission_interface/SimpleTransmission</type>
    <joint name="j_arm1_6">
      <hardwareInterface>EffortJointInterface</hardwareInterface>
    </joint>
    <actuator name="motor_j_arm1_6">
      <hardwareInterface>EffortJointInterface</hardwareInterface>
      <machanicalReduction>1</machanicalReduction>
    </actuator>
    <robotNamespace>/centauro</robotNamespace>
  </transmission>
  <transmission name="t_j_arm1_7">
    <type> transmission_interface/SimpleTransmission</type>
    <joint name="j_arm1_7">
      <hardwareInterface>EffortJointInterface</hardwareInterface>
    </joint>
    <actuator name="motor_j_arm1_7">
      <hardwareInterface>EffortJointInterface</hardwareInterface>
      <machanicalReduction>1</machanicalReduction>
    </actuator>
    <robotNamespace>/centauro</robotNamespace>
  </transmission>
  <!-- /actuators -->
  <!-- end-effector -->
  <!-- links -->
  <link name="arm1_8">
    <visual>
      <geometry>
        <box size="0.3 0.1 0.02"/>
        <!--box size="0.3 0.04 0.3"/-->
        <!--cylinder length="0.3" radius="0.02"/-->
      </geometry>
    </visual>
    <collision>
      <geometry>
        <box size="0.3 0.1 0.02"/>
        <!--box size="0.3 0.04 0.3"/-->
        <!--cylinder length="0.3" radius="0.02"/-->
      </geometry>
    </collision>
    <inertial>
      <mass value="0.01"/>
      <inertia ixx="0.001" ixy="0.0" ixz="0.0" iyy="0.001" iyz="0.0" izz="0.001"/>
    </inertial>
  </link>
  <!-- /links -->
  <!--xacro:if value="${arm_num == 1}">
        <joint name="j_arm${arm_num}_8" type="fixed">
            <parent link="arm${arm_num}_7"/>
            <child link="arm${arm_num}_8"/>
            <origin xyz="0 0 -0.05" rpy="0 0 0.0"/>
        </joint>
    </xacro:if>

    <xacro:if value="${arm_num == 2}">
        <joint name="j_arm${arm_num}_8" type="fixed">
            <parent link="arm${arm_num}_7"/>
            <child link="arm${arm_num}_8"/>
            <origin xyz="0 0 -0.05" rpy="0 0 -0.0"/>
        </joint>
    </xacro:if-->
  <!--origin xyz="0 0 -0.0605" rpy="0 1.5707 0.5"/-->
  <!--origin xyz="0 0 -0.0605" rpy="0 1.5707 -0.5"/-->
  <!-- /joints -->
  <joint name="j_arm1_8" type="fixed">
    <parent link="arm1_7"/>
    <child link="arm1_8"/>
    <origin rpy="0 0 0" xyz="0 0 -0.05"/>
  </joint>
  <!-- /end-effector -->
  <!-- LINKS -->
  <!-- shoulder yaw-roll-->
  <link name="arm2_1">
    <inertial>
      <origin xyz="-0.0031005886 -0.040324584 0.007451937"/>
      <mass value="1.5583338"/>
      <inertia ixx="0.0032318636" ixy="-4.24587e-05" ixz="4.91626e-05" iyy="0.00275718" iyz="0.0002387056" izz="0.004275047"/>
    </inertial>
    <visual>
      <origin rpy="0.0 0.0 0.0" xyz="0.0 0.0 0.0"/>
      <geometry>
        <mesh filename="package://centauro/centauro_urdf/meshes/link2.stl" scale="0.001 0.001 0.001"/>
      </geometry>
      <material name="dark_grey"/>
    </visual>
    <collision>
      <origin rpy="0.0 0.0 0.0" xyz="0.0 0.0 0.0"/>
      <geometry>
        <mesh filename="package://centauro/centauro_urdf/meshes/convex_hull/link2.stl" scale="0.001 0.001 0.001"/>
      </geometry>
    </collision>
  </link>
  <!-- shoulder yaw-roll-->
  <!-- shoulder roll-pitch-->
  <link name="arm2_2">
    <inertial>
      <origin xyz="0.05105435 -0.00011109 -0.07643596"/>
      <mass value="1.515061"/>
      <inertia ixx="0.01029558" ixy="-2.846e-05" ixz="0.0036567" iyy="0.01178018" iyz="-2.088e-05" izz="0.00386123"/>
    </inertial>
    <visual>
      <origin rpy="0.0 0.0 0.0" xyz="0.0 0.0 0.0"/>
      <geometry>
        <mesh filename="package://centauro/centauro_urdf/meshes/link3.stl" scale="0.001 0.001 0.001"/>
      </geometry>
    </visual>
    <collision>
      <origin rpy="0.0 0.0 0.0" xyz="0.0 0.0 0.0"/>
      <geometry>
        <mesh filename="package://centauro/centauro_urdf/meshes/convex_hull/link3.stl" scale="0.001 0.001 0.001"/>
      </geometry>
    </collision>
  </link>
  <!-- shoulder roll-pitch-->
  <!-- shoulder-elbow -->
  <link name="arm2_3">
    <inertial>
      <origin xyz="0.01207624 -0.00322013 -0.03427312"/>
      <mass value="1.5088101"/>
      <inertia ixx="0.00469819" ixy="0.00026547" ixz="0.00077706" iyy="0.00501755" iyz="-0.00029679" izz="0.00310954"/>
    </inertial>
    <visual>
      <origin rpy="0.0 0.0 0.0" xyz="0.0 0.0 0.0"/>
      <geometry>
        <mesh filename="package://centauro/centauro_urdf/meshes/link4.stl" scale="0.001 0.001 0.001"/>
      </geometry>
      <material name="dark_grey"/>
    </visual>
    <collision>
      <origin rpy="0.0 0.0 0.0" xyz="0.0 0.0 0.0"/>
      <geometry>
        <mesh filename="package://centauro/centauro_urdf/meshes/convex_hull/link4.stl" scale="0.001 0.001 0.001"/>
      </geometry>
    </collision>
  </link>
  <!-- /shoulder-elbow -->
  <!-- elbow yaw-pitch -->
  <link name="arm2_4">
    <inertial>
      <origin xyz="0.010147552 0.029928537 -0.032528288"/>
      <mass value="0.96297329"/>
      <inertia ixx="0.0026493567" ixy="-5.1632e-06" ixz="0.0001292309" iyy="0.0023470955" iyz="0.0007895755" izz="0.0012213063"/>
    </inertial>
    <visual>
      <origin rpy="0.0 0.0 0.0" xyz="0.0 0.0 0.0"/>
      <geometry>
        <mesh filename="package://centauro/centauro_urdf/meshes/link5.stl" scale="0.001 0.001 0.001"/>
      </geometry>
    </visual>
    <collision>
      <origin rpy="0.0 0.0 0.0" xyz="0.0 0.0 0.0"/>
      <geometry>
        <mesh filename="package://centauro/centauro_urdf/meshes/convex_hull/link5.stl" scale="0.001 0.001 0.001"/>
      </geometry>
    </collision>
  </link>
  <!-- /elbow yaw-pitch -->
  <!-- elbow-wrist -->
  <link name="arm2_5">
    <inertial>
      <origin xyz="-0.0001574443 -0.0041320907 -0.10756614"/>
      <mass value="1.4703698"/>
      <inertia ixx="0.0064160453" ixy="-1.96382e-05" ixz="2.49912e-05" iyy="0.0062016367" iyz="0.0001987903" izz="0.0017091658"/>
    </inertial>
    <visual>
      <origin rpy="0.0 0.0 0.0" xyz="0.0 0.0 0.0"/>
      <geometry>
        <mesh filename="package://centauro/centauro_urdf/meshes/link6.stl" scale="0.001 0.001 0.001"/>
      </geometry>
      <material name="dark_grey"/>
    </visual>
    <collision>
      <origin rpy="0.0 0.0 0.0" xyz="0.0 0.0 0.0"/>
      <geometry>
        <mesh filename="package://centauro/centauro_urdf/meshes/convex_hull/link6.stl" scale="0.001 0.001 0.001"/>
      </geometry>
    </collision>
  </link>
  <!-- /elbow-wrist -->
  <!-- wrist yaw-pitch -->
  <link name="arm2_6">
    <inertial>
      <origin xyz="3.23645e-05 0.035947237 -0.080878061"/>
      <mass value="0.94693868"/>
      <inertia ixx="0.0036896582" ixy="-2.63667e-05" ixz="1.4005e-06" iyy="0.0034146283" iyz="0.0008268103" izz="0.0010790183"/>
    </inertial>
    <visual>
      <origin rpy="0.0 0.0 0.0" xyz="0.0 0.0 0.0"/>
      <geometry>
        <mesh filename="package://centauro/centauro_urdf/meshes/link7.stl" scale="0.001 0.001 0.001"/>
      </geometry>
    </visual>
    <collision>
      <origin rpy="0.0 0.0 0.0" xyz="0.0 0.0 0.0"/>
      <geometry>
        <mesh filename="package://centauro/centauro_urdf/meshes/convex_hull/link7.stl" scale="0.001 0.001 0.001"/>
      </geometry>
    </collision>
  </link>
  <!-- /wrist yaw-pitch -->
  <link name="arm2_7">
    <inertial>
      <origin xyz="2.46596e-05 0.0001467705 -0.0052993013"/>
      <mass value="0.55981036"/>
      <inertia ixx="0.0004360175" ixy="-1.397e-07" ixz="-1.382e-07" iyy="0.0004299166" iyz="1.4752e-06" izz="0.0004522224"/>
    </inertial>
    <visual>
      <origin rpy="0.0 0.0 0.0" xyz="0.0 0.0 0.0"/>
      <geometry>
        <mesh filename="package://centauro/centauro_urdf/meshes/link8.stl" scale="0.001 0.001 0.001"/>
      </geometry>
      <material name="dark_grey"/>
    </visual>
    <collision>
      <origin rpy="0.0 0.0 0.0" xyz="0.0 0.0 0.0"/>
      <geometry>
        <mesh filename="package://centauro/centauro_urdf/meshes/convex_hull/link8.stl" scale="0.001 0.001 0.001"/>
      </geometry>
    </collision>
  </link>
  <!-- /LINKS -->
  <!-- JOINTS -->
  <!-- shoulder yaw -->
  <joint name="j_arm2_1" type="revolute">
    <parent link="torso_2"/>
    <child link="arm2_1"/>
    <origin rpy="0.0 0.0 0.523602668986" xyz="0.04576 -0.169137 0.190626"/>
    <axis xyz="0 -0.984807753012 0.173648177667"/>
    <!--          <limit lower="-1.658" upper="3.403" effort="147" velocity="5.7"/> -->
    <limit effort="147" lower="-3.0" upper="3.0" velocity="5.7"/>
  </joint>
  <!-- /shoulder yaw -->
  <!-- shoulder roll -->
  <joint name="j_arm2_2" type="revolute">
    <parent link="arm2_1"/>
    <child link="arm2_2"/>
    <origin xyz="-0.09115 -0.06106 0.010766"/>
    <axis xyz="-1 0 0"/>
    <!--          <limit lower="0" upper="3.49" effort="147" velocity="5.7"/> -->
    <limit effort="147" lower="-3.0" upper="3.0" velocity="5.7"/>
  </joint>
  <!-- /shoulder roll -->
  <!-- shoulder pitch-->
  <joint name="j_arm2_3" type="revolute">
    <parent link="arm2_2"/>
    <child link="arm2_3"/>
    <origin xyz="0.09115 0.0 -0.21915"/>
    <axis xyz="0 0 -1"/>
    <!--       <limit lower="-2.618" upper="2.618" effort="147" velocity="8.2"/> -->
    <limit effort="147" lower="-3.0" upper="3.0" velocity="5.7"/>
  </joint>
  <!-- /shoulder pitch -->
  <!-- elbow yaw -->
  <joint name="j_arm2_4" type="revolute">
    <parent link="arm2_3"/>
    <child link="arm2_4"/>
    <origin xyz="0.04 -0.05615 -0.074"/>
    <axis xyz="0 -1 0"/>
    <!--          <limit lower="-0.349" upper="2.530" effort="147" velocity="8.2"/> -->
    <limit effort="147" lower="-3.0" upper="3.0" velocity="5.7"/>
  </joint>
  <!-- /elbow yaw -->
  <!-- elbow pitch-->
  <joint name="j_arm2_5" type="revolute">
    <parent link="arm2_4"/>
    <child link="arm2_5"/>
    <origin xyz="-0.015 0.05615 -0.061"/>
    <axis xyz="0 0 -1"/>
    <!--       <limit lower="-2.618" upper="2.618" effort="55" velocity="11.6"/> -->
    <limit effort="147" lower="-3.0" upper="3.0" velocity="5.7"/>
  </joint>
  <!-- /elbow pitch-->
  <!-- wrist yaw-->
  <joint name="j_arm2_6" type="revolute">
    <parent link="arm2_5"/>
    <child link="arm2_6"/>
    <origin xyz="0.0 -0.049 -0.18"/>
    <axis xyz="0 -1 0"/>
    <!--       <limit lower="-1.570" upper="1.570" effort="55" velocity="11.6"/> -->
    <limit effort="147" lower="-3.0" upper="3.0" velocity="5.7"/>
  </joint>
  <!-- /wrist yaw-->
  <!-- wrist pitch-->
  <joint name="j_arm2_7" type="revolute">
    <parent link="arm2_6"/>
    <child link="arm2_7"/>
    <origin xyz="0.0 0.049 -0.169"/>
    <axis xyz="0 0 -1"/>
    <!--       <limit lower="-2.618" upper="2.618" effort="27" velocity="20.3"/> -->
    <limit effort="147" lower="-3.0" upper="3.0" velocity="5.7"/>
  </joint>
  <!-- wrist pitch-->
  <!-- force-troque sensor -->
  <transmission name="t_j_arm2_1">
    <type> transmission_interface/SimpleTransmission</type>
    <joint name="j_arm2_1">
      <hardwareInterface>EffortJointInterface</hardwareInterface>
    </joint>
    <actuator name="motor_j_arm2_1">
      <hardwareInterface>EffortJointInterface</hardwareInterface>
      <machanicalReduction>1</machanicalReduction>
    </actuator>
    <robotNamespace>/centauro</robotNamespace>
  </transmission>
  <transmission name="t_j_arm2_2">
    <type> transmission_interface/SimpleTransmission</type>
    <joint name="j_arm2_2">
      <hardwareInterface>EffortJointInterface</hardwareInterface>
    </joint>
    <actuator name="motor_j_arm2_2">
      <hardwareInterface>EffortJointInterface</hardwareInterface>
      <machanicalReduction>1</machanicalReduction>
    </actuator>
    <robotNamespace>/centauro</robotNamespace>
  </transmission>
  <transmission name="t_j_arm2_3">
    <type> transmission_interface/SimpleTransmission</type>
    <joint name="j_arm2_3">
      <hardwareInterface>EffortJointInterface</hardwareInterface>
    </joint>
    <actuator name="motor_j_arm2_3">
      <hardwareInterface>EffortJointInterface</hardwareInterface>
      <machanicalReduction>1</machanicalReduction>
    </actuator>
    <robotNamespace>/centauro</robotNamespace>
  </transmission>
  <transmission name="t_j_arm2_4">
    <type> transmission_interface/SimpleTransmission</type>
    <joint name="j_arm2_4">
      <hardwareInterface>EffortJointInterface</hardwareInterface>
    </joint>
    <actuator name="motor_j_arm2_4">
      <hardwareInterface>EffortJointInterface</hardwareInterface>
      <machanicalReduction>1</machanicalReduction>
    </actuator>
    <robotNamespace>/centauro</robotNamespace>
  </transmission>
  <transmission name="t_j_arm2_5">
    <type> transmission_interface/SimpleTransmission</type>
    <joint name="j_arm2_5">
      <hardwareInterface>EffortJointInterface</hardwareInterface>
    </joint>
    <actuator name="motor_j_arm2_5">
      <hardwareInterface>EffortJointInterface</hardwareInterface>
      <machanicalReduction>1</machanicalReduction>
    </actuator>
    <robotNamespace>/centauro</robotNamespace>
  </transmission>
  <transmission name="t_j_arm2_6">
    <type> transmission_interface/SimpleTransmission</type>
    <joint name="j_arm2_6">
      <hardwareInterface>EffortJointInterface</hardwareInterface>
    </joint>
    <actuator name="motor_j_arm2_6">
      <hardwareInterface>EffortJointInterface</hardwareInterface>
      <machanicalReduction>1</machanicalReduction>
    </actuator>
    <robotNamespace>/centauro</robotNamespace>
  </transmission>
  <transmission name="t_j_arm2_7">
    <type> transmission_interface/SimpleTransmission</type>
    <joint name="j_arm2_7">
      <hardwareInterface>EffortJointInterface</hardwareInterface>
    </joint>
    <actuator name="motor_j_arm2_7">
      <hardwareInterface>EffortJointInterface</hardwareInterface>
      <machanicalReduction>1</machanicalReduction>
    </actuator>
    <robotNamespace>/centauro</robotNamespace>
  </transmission>
  <!-- /actuators -->
  <!-- end-effector -->
  <!-- links -->
  <link name="arm2_8">
    <visual>
      <geometry>
        <box size="0.3 0.1 0.02"/>
        <!--box size="0.3 0.04 0.3"/-->
        <!--cylinder length="0.3" radius="0.02"/-->
      </geometry>
    </visual>
    <collision>
      <geometry>
        <box size="0.3 0.1 0.02"/>
        <!--box size="0.3 0.04 0.3"/-->
        <!--cylinder length="0.3" radius="0.02"/-->
      </geometry>
    </collision>
    <inertial>
      <mass value="0.01"/>
      <inertia ixx="0.001" ixy="0.0" ixz="0.0" iyy="0.001" iyz="0.0" izz="0.001"/>
    </inertial>
  </link>
  <!-- /links -->
  <!--xacro:if value="${arm_num == 1}">
        <joint name="j_arm${arm_num}_8" type="fixed">
            <parent link="arm${arm_num}_7"/>
            <child link="arm${arm_num}_8"/>
            <origin xyz="0 0 -0.05" rpy="0 0 0.0"/>
        </joint>
    </xacro:if>

    <xacro:if value="${arm_num == 2}">
        <joint name="j_arm${arm_num}_8" type="fixed">
            <parent link="arm${arm_num}_7"/>
            <child link="arm${arm_num}_8"/>
            <origin xyz="0 0 -0.05" rpy="0 0 -0.0"/>
        </joint>
    </xacro:if-->
  <!--origin xyz="0 0 -0.0605" rpy="0 1.5707 0.5"/-->
  <!--origin xyz="0 0 -0.0605" rpy="0 1.5707 -0.5"/-->
  <!-- /joints -->
  <joint name="j_arm2_8" type="fixed">
    <parent link="arm2_7"/>
    <child link="arm2_8"/>
    <origin rpy="0 0 0" xyz="0 0 -0.05"/>
  </joint>
  <!-- /end-effector -->
  <!-- /arms -->
  <!-- /legs -->
</robot>
